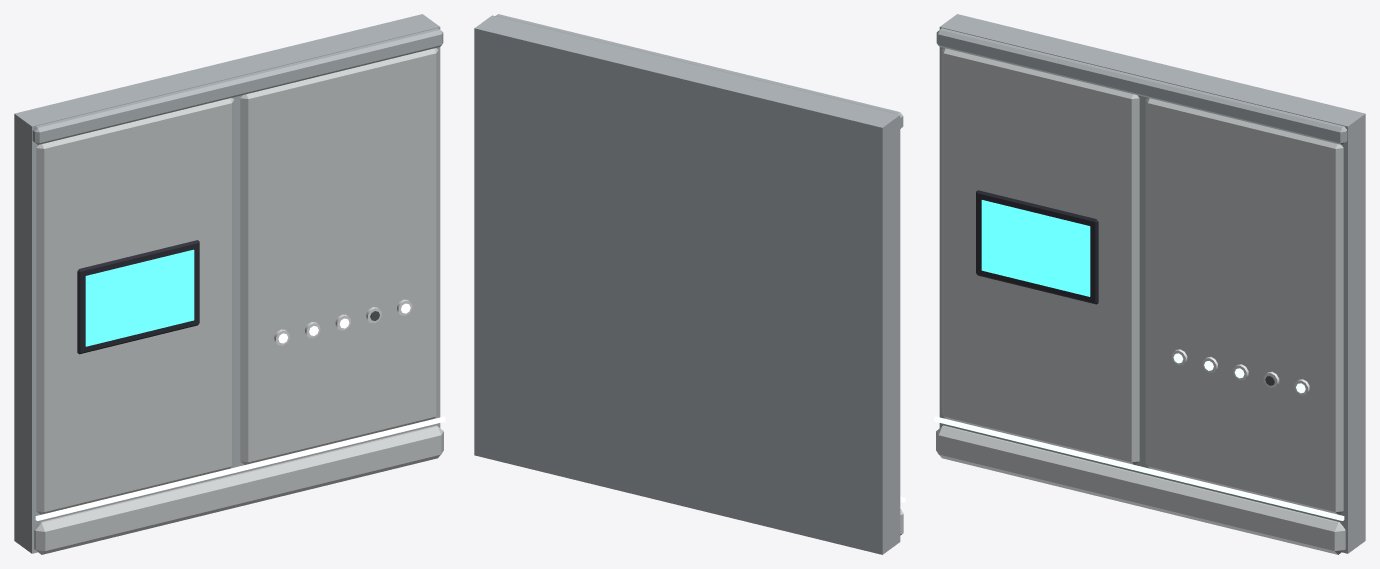
The model's file is wall_an_white2.glb.
3 renders of one model, left to right at view 1: azimuth 30°, elevation 25°; view 2: azimuth 150°, elevation 25°; view 3: azimuth 330°, elevation 25°, orthographic.
Visible parts, largest first — view 1: wall_an_white2; view 2: wall_an_white2; view 3: wall_an_white2.
Boxes of the visible parts, left/top/right/bottom form: wall_an_white2: left=14, top=14, right=445, bottom=554; wall_an_white2: left=474, top=14, right=905, bottom=554; wall_an_white2: left=934, top=14, right=1365, bottom=554.
Size of the model in its own units: 4 by 4 by 0.42.
